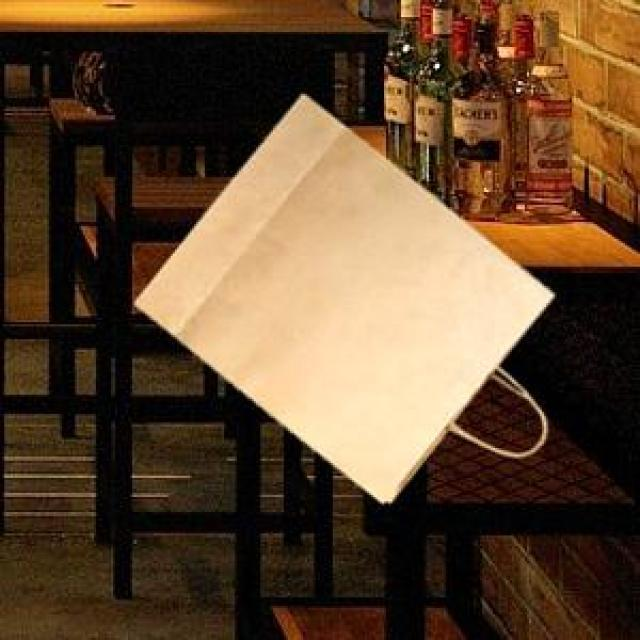paper: (130, 90, 550, 499)
